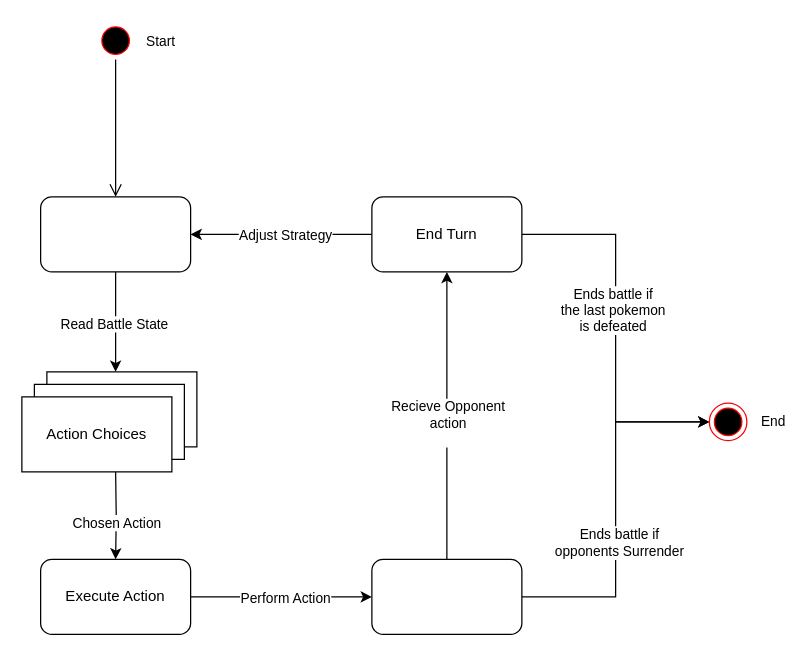
Image size: 806x656. Some labels were removed from this diagram. Each missing label, with the centre of its shape:
Observe state: (115,234)
Wait for Opponent: (446,596)
